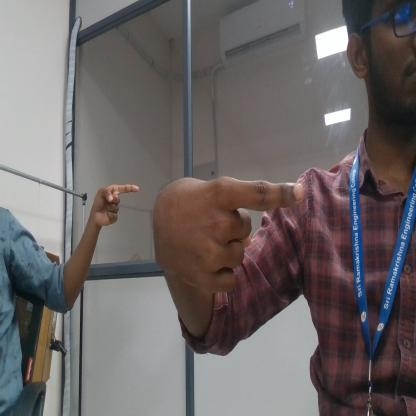Left: (150, 168, 312, 306), (89, 176, 144, 240)
